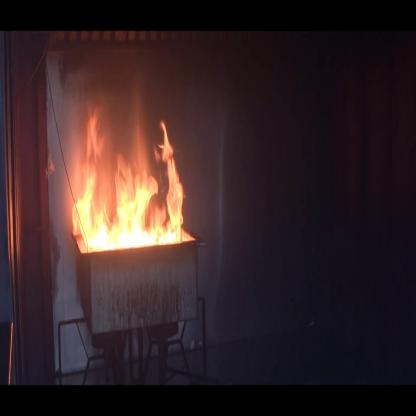fire: (65, 93, 192, 255)
